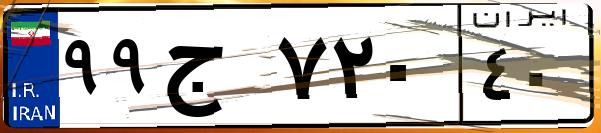0: (385, 28, 445, 110), (525, 38, 570, 115)
2: (330, 28, 385, 110)
4: (475, 38, 525, 113)
7: (270, 28, 330, 110)
9: (57, 26, 110, 100), (110, 28, 158, 98)
ج: (158, 20, 270, 120)
